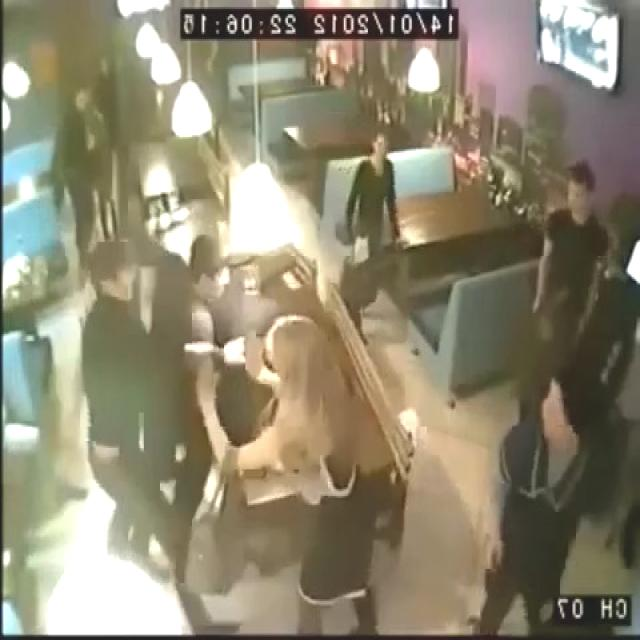fight: (114, 143, 292, 476)
